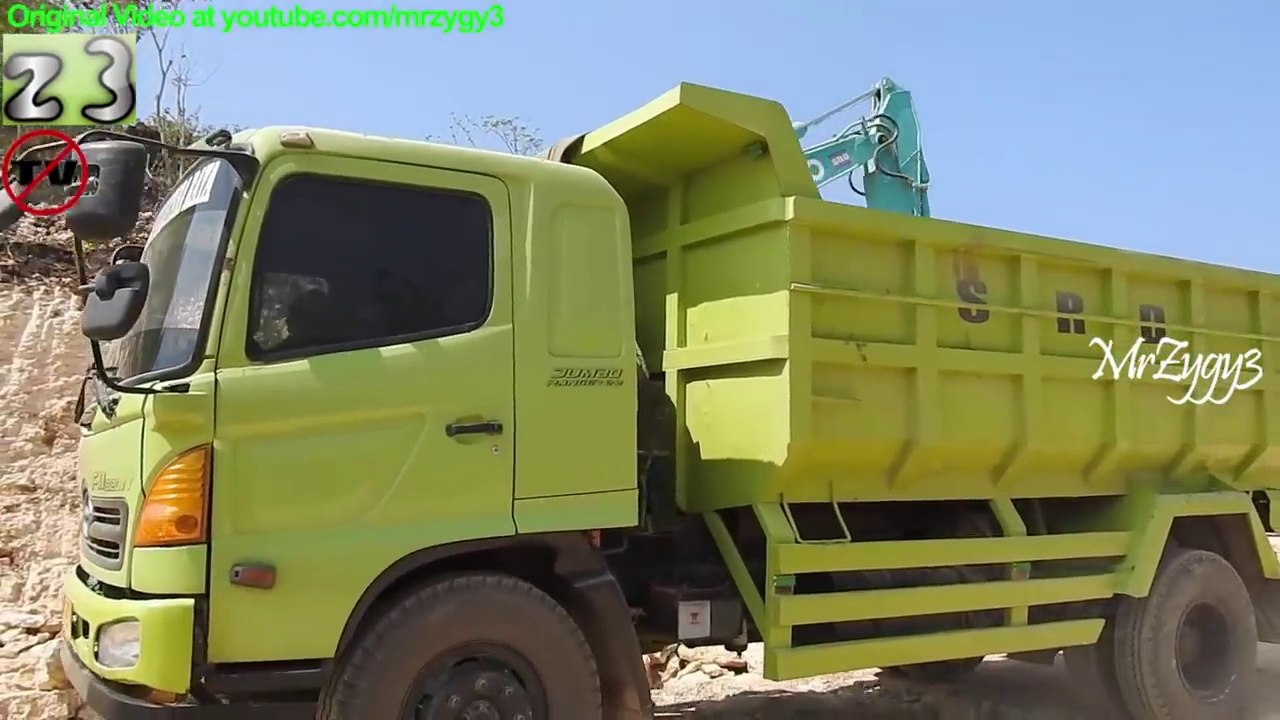excavator: (560, 74, 954, 679)
truck: (1, 79, 1280, 720)
